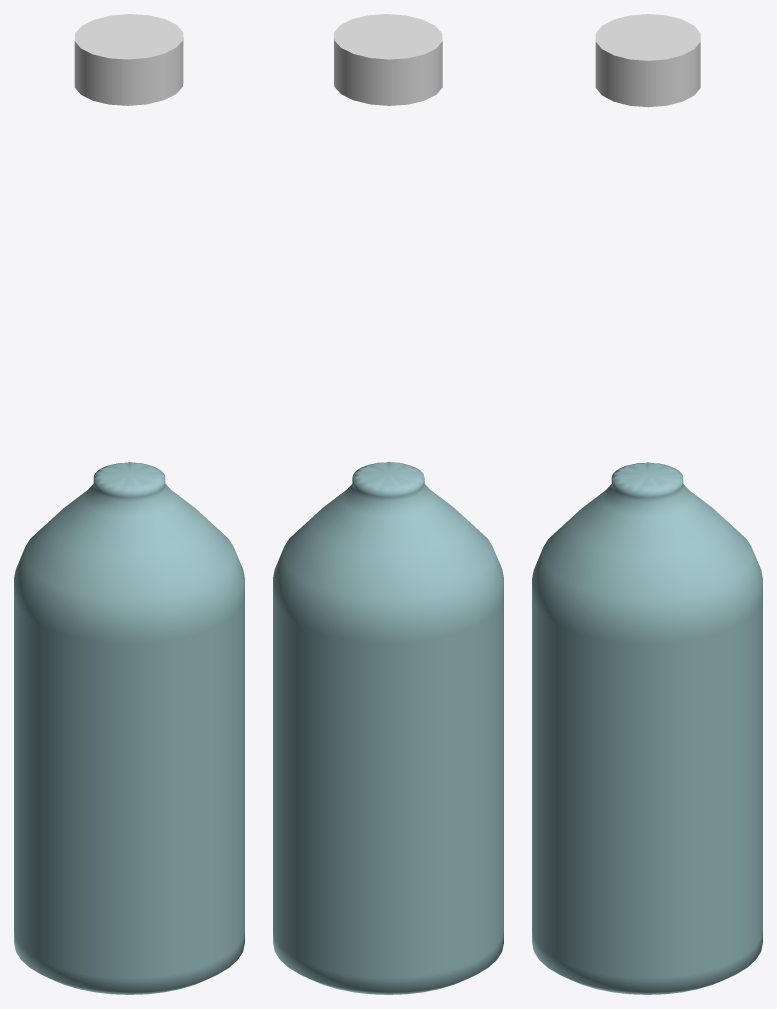
The model's file is watterbottle.fbx.
3 views of the same model, side by side, from view 1: azimuth 30°, elevation 25°; view 2: azimuth 150°, elevation 25°; view 3: azimuth 270°, elevation 25° (orthographic).
Visible parts, largest first — view 1: water bottle, cap; view 2: water bottle, cap; view 3: water bottle, cap.
Part boxes in pixels (bbox=[...]): water bottle: bbox=[14, 462, 244, 994]; cap: bbox=[74, 14, 183, 105]; water bottle: bbox=[273, 461, 503, 994]; cap: bbox=[334, 14, 442, 105]; water bottle: bbox=[532, 462, 762, 994]; cap: bbox=[595, 14, 700, 107].
Bounding box in the file's own units: 4.48 × 19.59 × 4.48.
